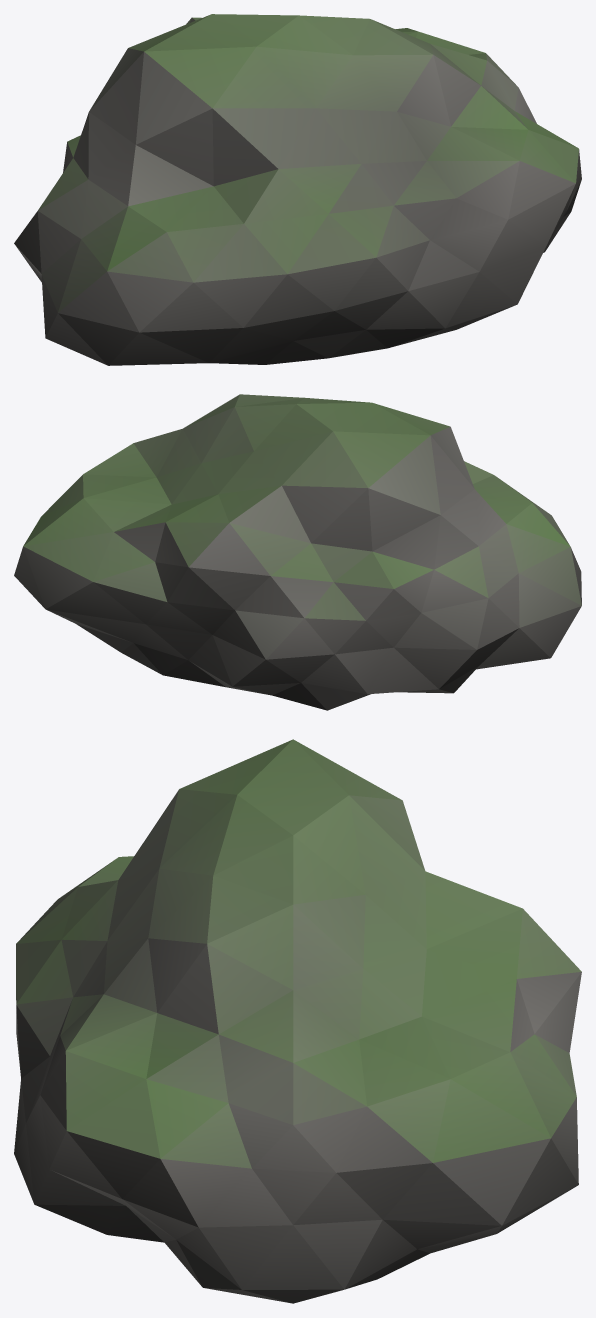
File: Rock_M.glb
3 views of the same model, one above another, from view 1: azimuth 30°, elevation 25°; view 2: azimuth 150°, elevation 25°; view 3: azimuth 270°, elevation 25° (orthographic). The views are drawn at different scales.
Parts seen in each view (by area): view 1: Rock_M; view 2: Rock_M; view 3: Rock_M.
Part boxes in pixels (left/top/right/bottom): Rock_M: left=14, top=14, right=581, bottom=365; Rock_M: left=14, top=394, right=581, bottom=710; Rock_M: left=14, top=739, right=581, bottom=1303.
Bounding box in the file's own units: 3 × 1.4 × 2.21.
